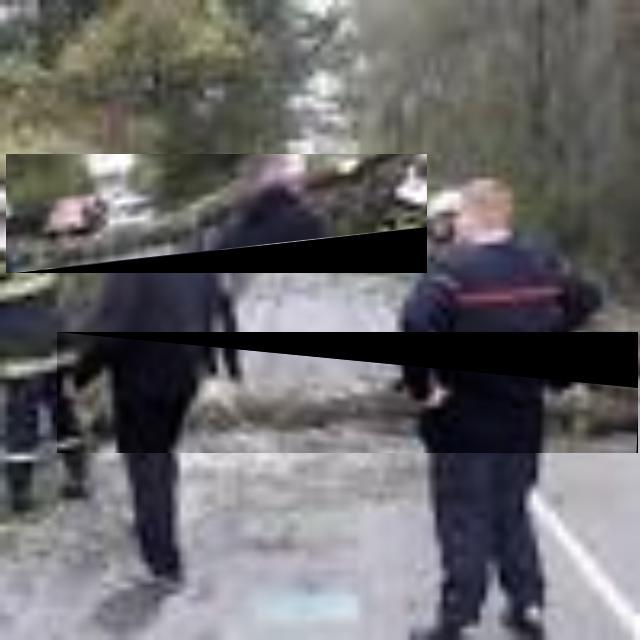fallen_tree: (57, 332, 639, 454), (6, 154, 428, 274)
